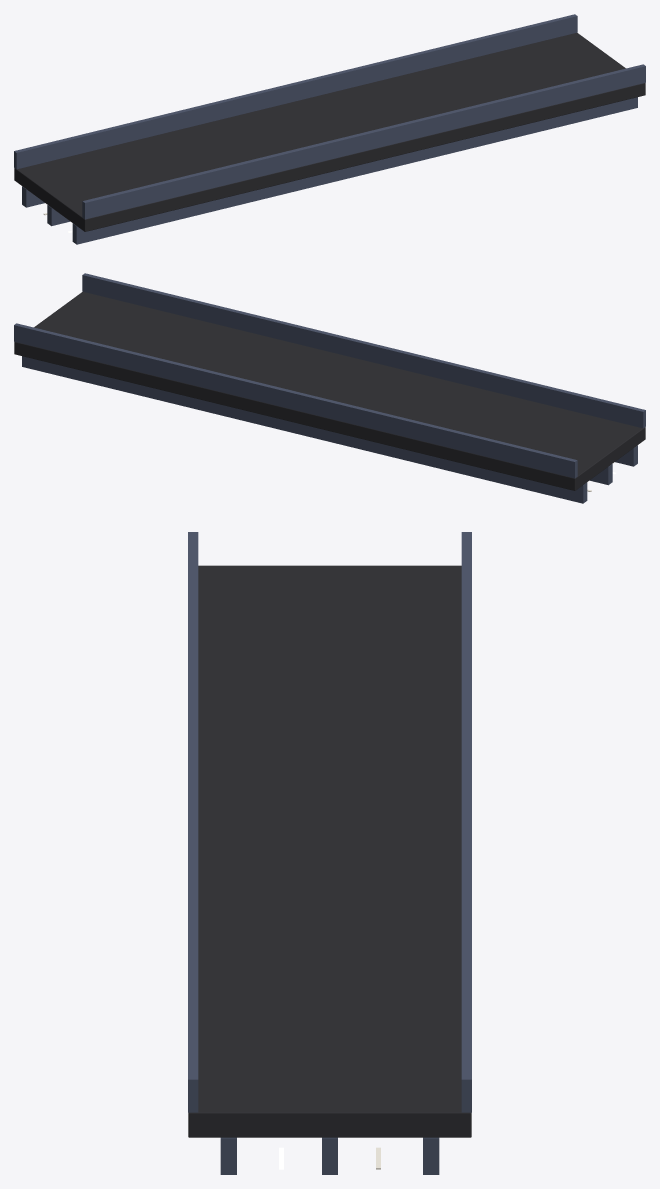
File: SM_Overpass.fbx
3 renders of one model, top to bottom at view 1: azimuth 30°, elevation 25°; view 2: azimuth 150°, elevation 25°; view 3: azimuth 270°, elevation 25°, orthographic. The views are drawn at different scales.
Visible parts, largest first — view 1: SM_Overpass; view 2: SM_Overpass; view 3: SM_Overpass.
Part boxes in pixels (left/top/right/bottom): SM_Overpass: left=14, top=14, right=645, bottom=244; SM_Overpass: left=14, top=273, right=645, bottom=503; SM_Overpass: left=188, top=532, right=471, bottom=1174.
Bounding box in the file's own units: 7.01 × 32 × 2.64.
